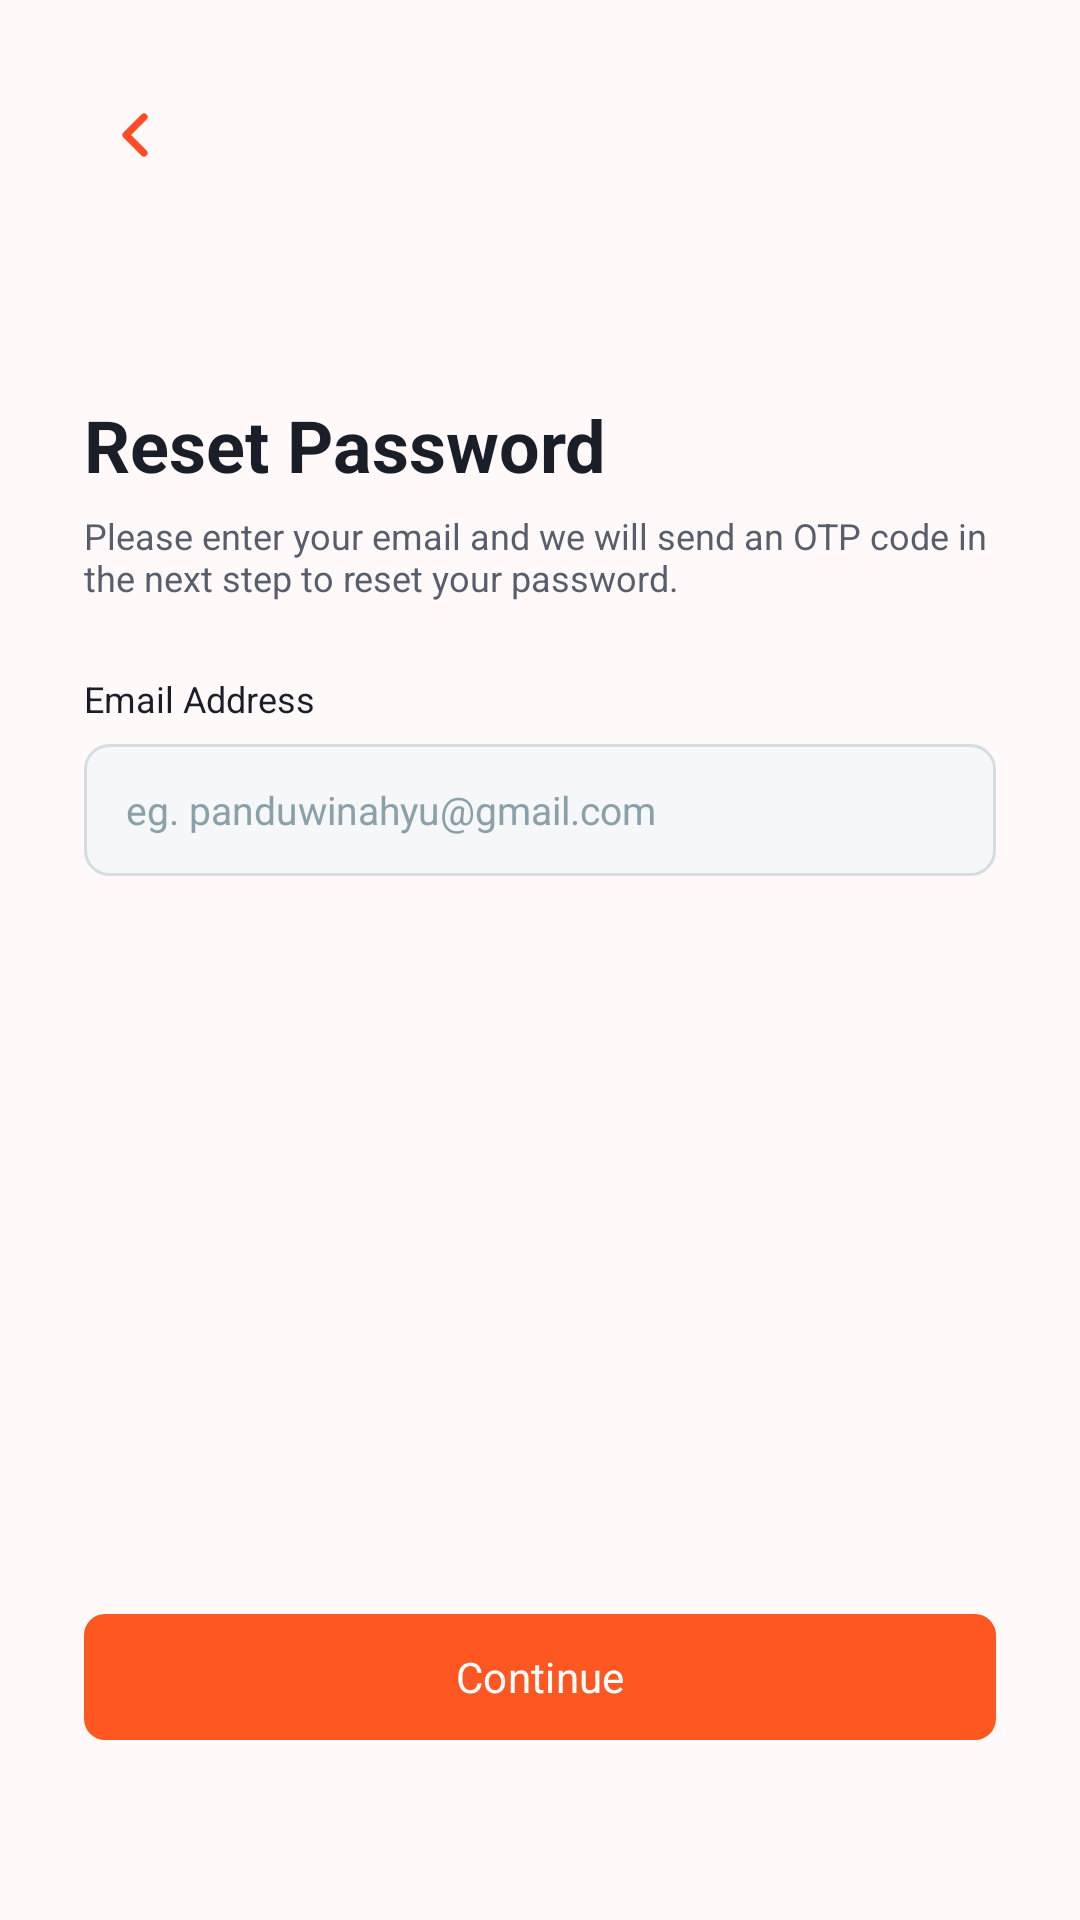

Named icons in this screenshot (1080 x 1920) and their bounding boxes, (x1, y1, x2, y2):
Kembali: (122, 113, 148, 157)
